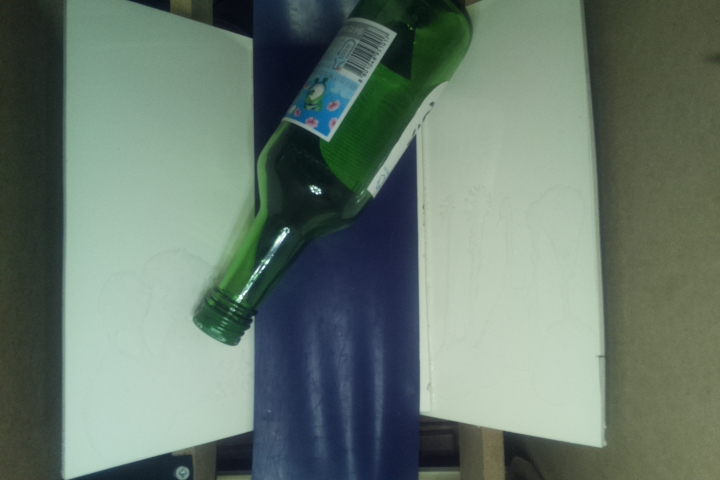soju: (190, 1, 484, 352)
